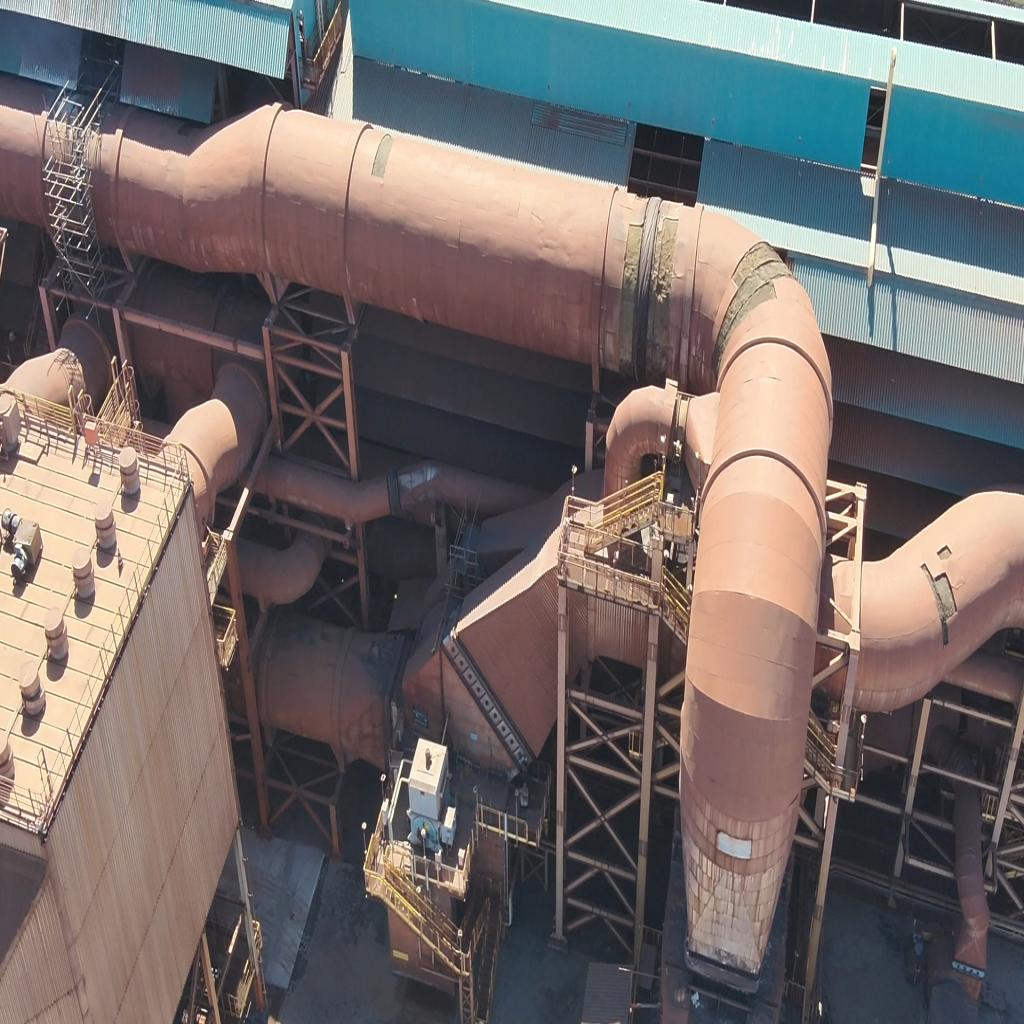Failures: (721, 226, 802, 365), (648, 220, 684, 373), (911, 558, 957, 648), (620, 221, 640, 373), (372, 117, 394, 197), (935, 534, 954, 569)
